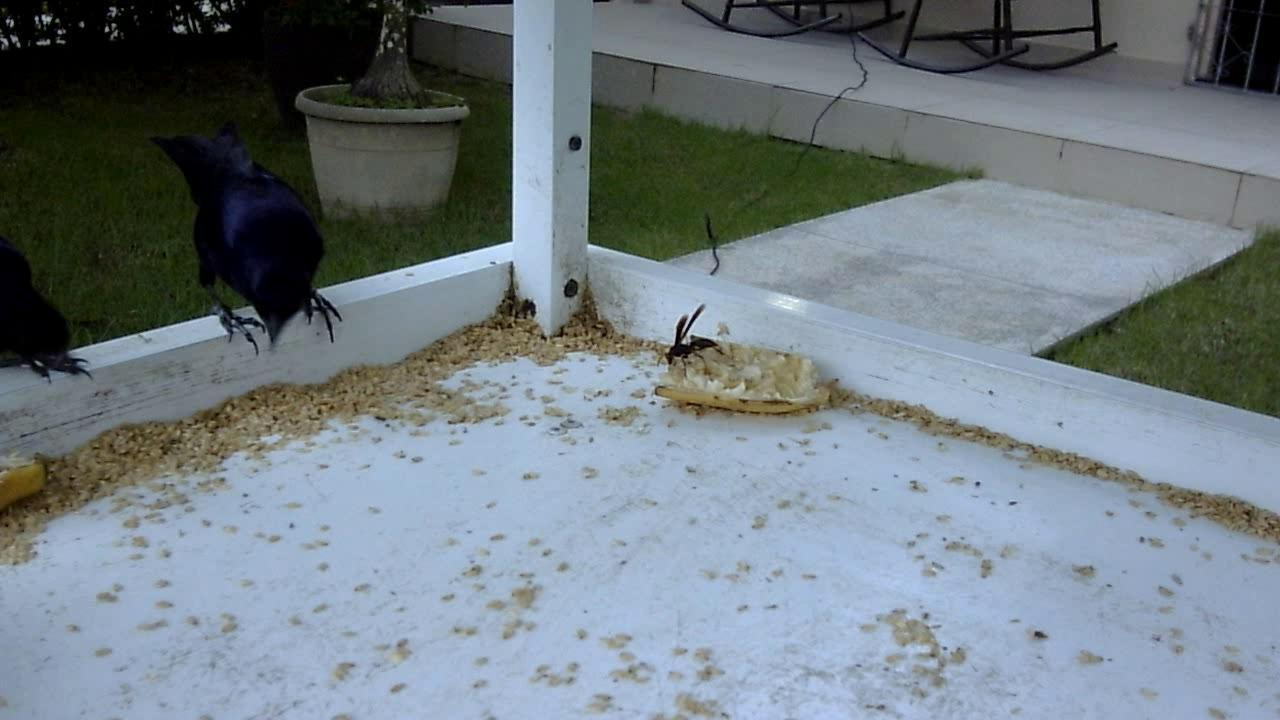chupim: (143, 119, 343, 365), (1, 230, 107, 393)
